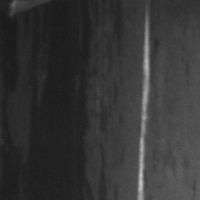inclusion: (14, 3, 117, 199)
scratches: (133, 5, 155, 199)
